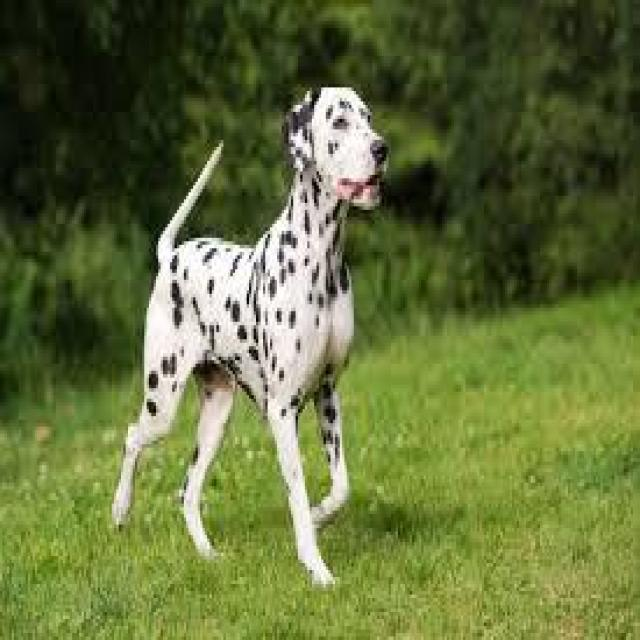Dog: (278, 75, 391, 225)
